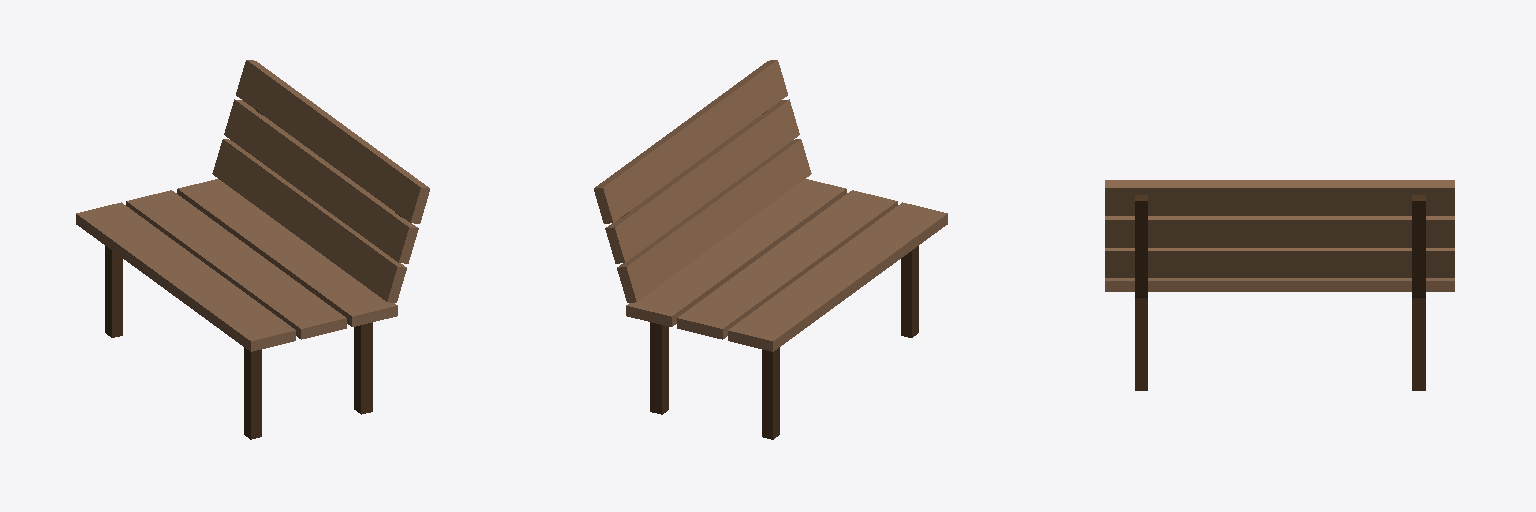
3 renders of one model, left to right at view 1: azimuth 30°, elevation 25°; view 2: azimuth 150°, elevation 25°; view 3: azimuth 270°, elevation 25°, orthographic.
Parts seen in each view (by area): view 1: Banca_Patas_001, Banca_001; view 2: Banca_Patas_001, Banca_001; view 3: Banca_Patas_001, Banca_001.
Boxes of the visible parts, x1=… form: Banca_Patas_001: x1=76, y1=60, x2=429, y2=351; Banca_001: x1=105, y1=110, x2=402, y2=439; Banca_Patas_001: x1=594, y1=60, x2=947, y2=351; Banca_001: x1=621, y1=111, x2=918, y2=439; Banca_Patas_001: x1=1105, y1=180, x2=1454, y2=291; Banca_001: x1=1135, y1=195, x2=1425, y2=390.
Size of the model in its own units: 0.7841 by 0.9177 by 1.28.
Materials: 2 (2 with a texture image).